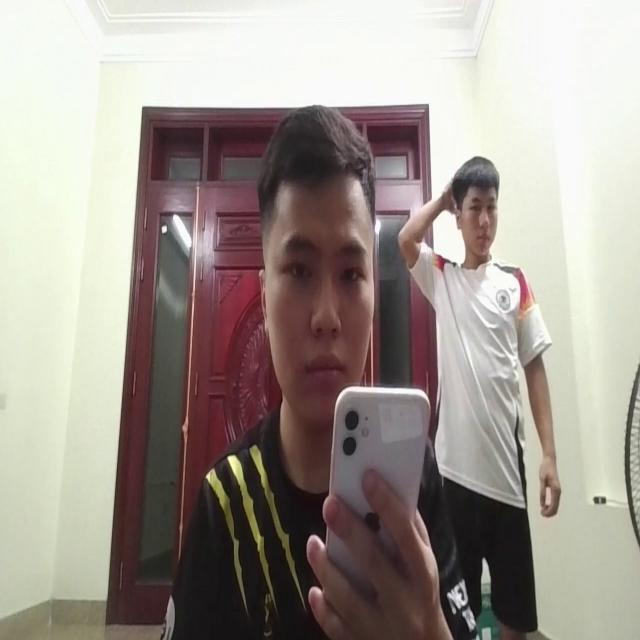extra_person: (408, 129, 558, 630)
phone: (320, 366, 428, 640)
student: (175, 99, 466, 640)
